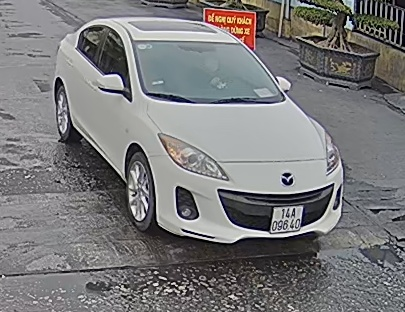vehicle plate: (267, 203, 302, 233)
